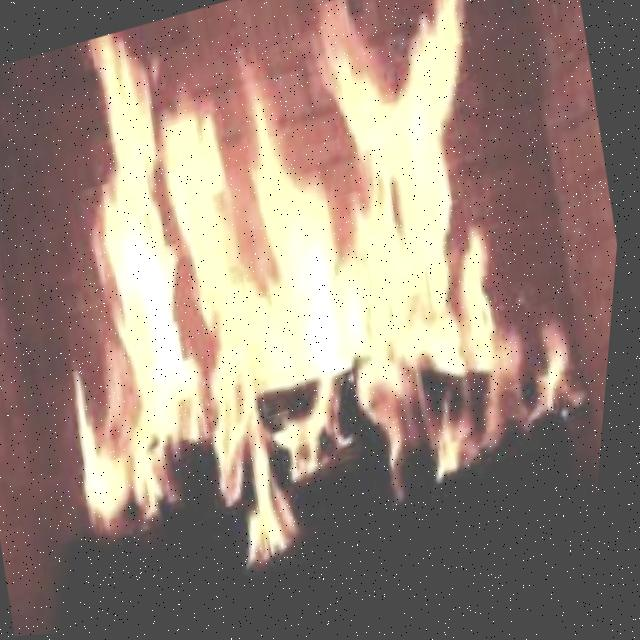Fire: (0, 0, 640, 638)
